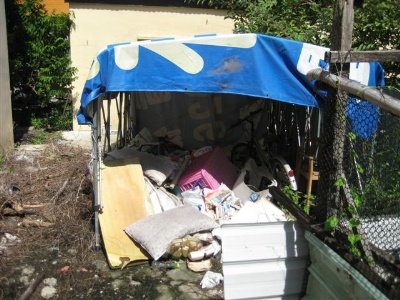plastic_bag: (89, 34, 311, 97)
